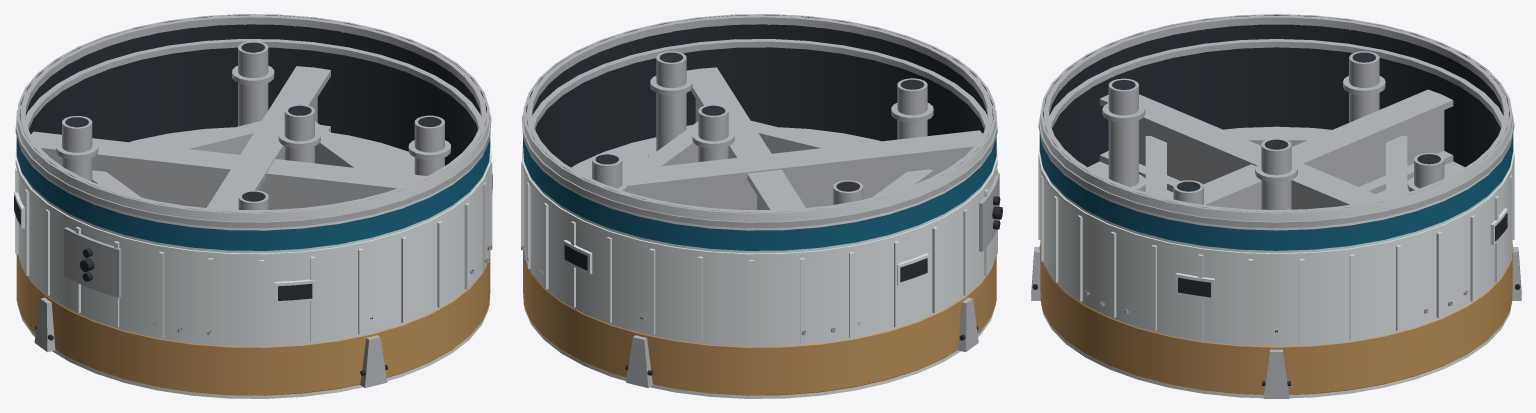
The model's file is mount_s1_5_d37.glb.
The picture shows the model from 3 angles, left to right: view 1: azimuth 30°, elevation 25°; view 2: azimuth 150°, elevation 25°; view 3: azimuth 270°, elevation 25°; orthographic projection.
Visible parts, largest first — view 1: mount_s1_5_d37_mesh; view 2: mount_s1_5_d37_mesh; view 3: mount_s1_5_d37_mesh.
Part boxes in pixels (bbox=[...]): mount_s1_5_d37_mesh: bbox=[14, 14, 492, 398]; mount_s1_5_d37_mesh: bbox=[521, 14, 1002, 398]; mount_s1_5_d37_mesh: bbox=[1031, 14, 1521, 398].
Bounding box in the file's own units: 3.84 × 1.6 × 3.84.
